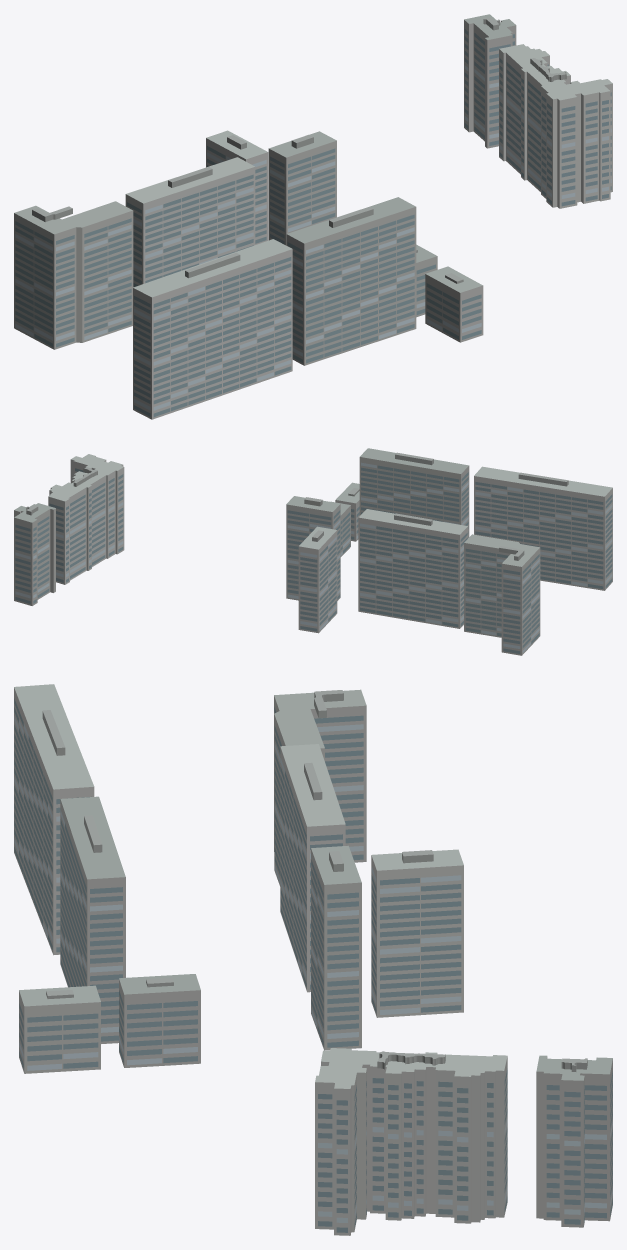
The model's file is apt-a13076801.glb.
3 views of the same model, one above another, from view 1: azimuth 30°, elevation 25°; view 2: azimuth 150°, elevation 25°; view 3: azimuth 270°, elevation 25° (orthographic). The views are drawn at different scales.
Parts seen in each view (by area): view 1: apt-a13076801; view 2: apt-a13076801; view 3: apt-a13076801.
Part boxes in pixels (x1=…): apt-a13076801: x1=14, y1=14, x2=612, y2=419; apt-a13076801: x1=14, y1=448, x2=612, y2=655; apt-a13076801: x1=14, y1=684, x2=612, y2=1235.
Size of the model in its own units: 261 by 54 by 169.
